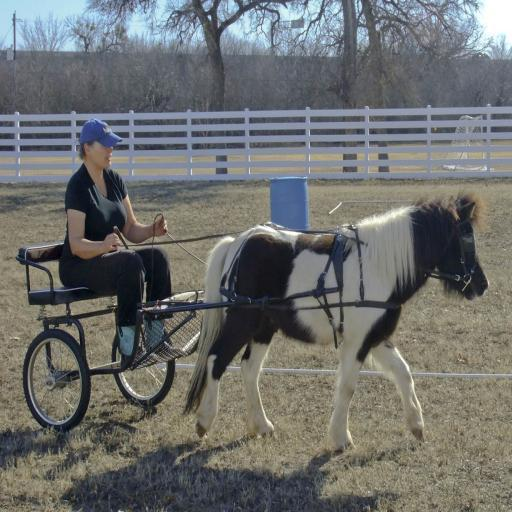horse: (182, 188, 491, 454)
